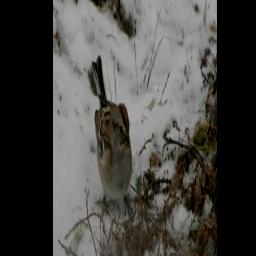Sparrow: (88, 52, 135, 219)
